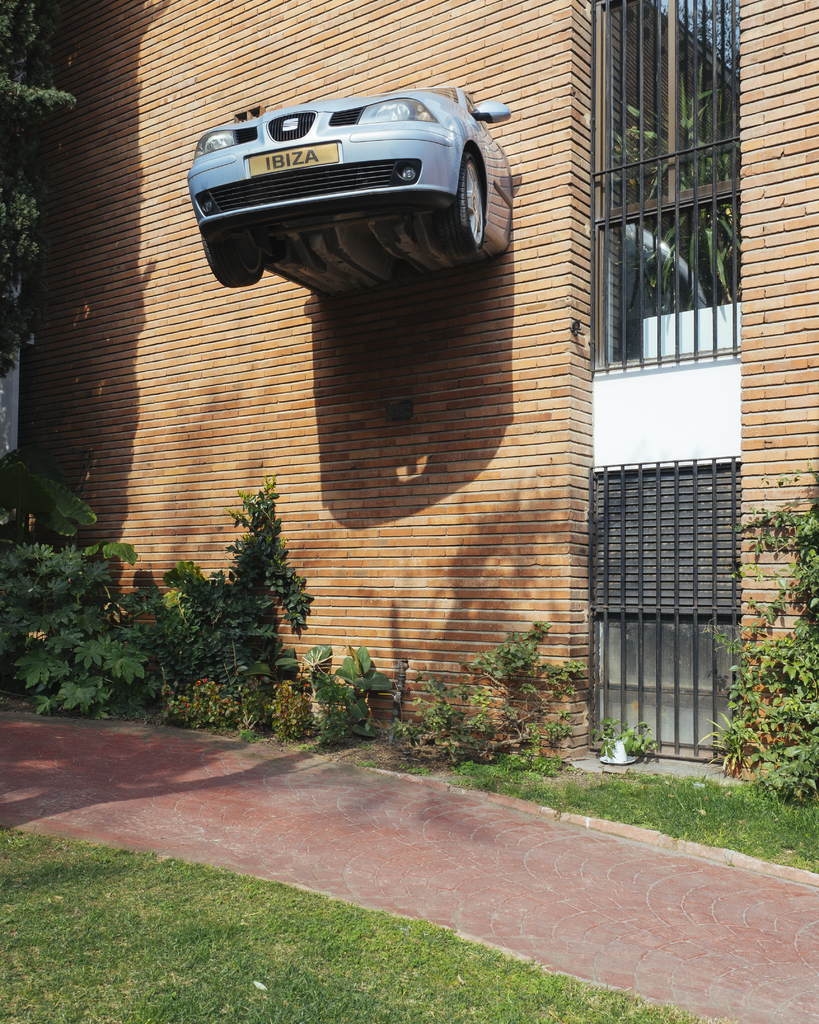Car: (199, 72, 519, 269)
